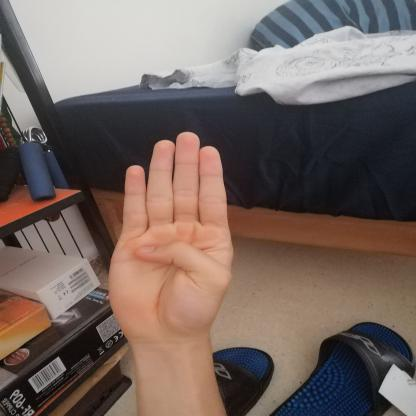KAAF: (93, 118, 251, 354)
